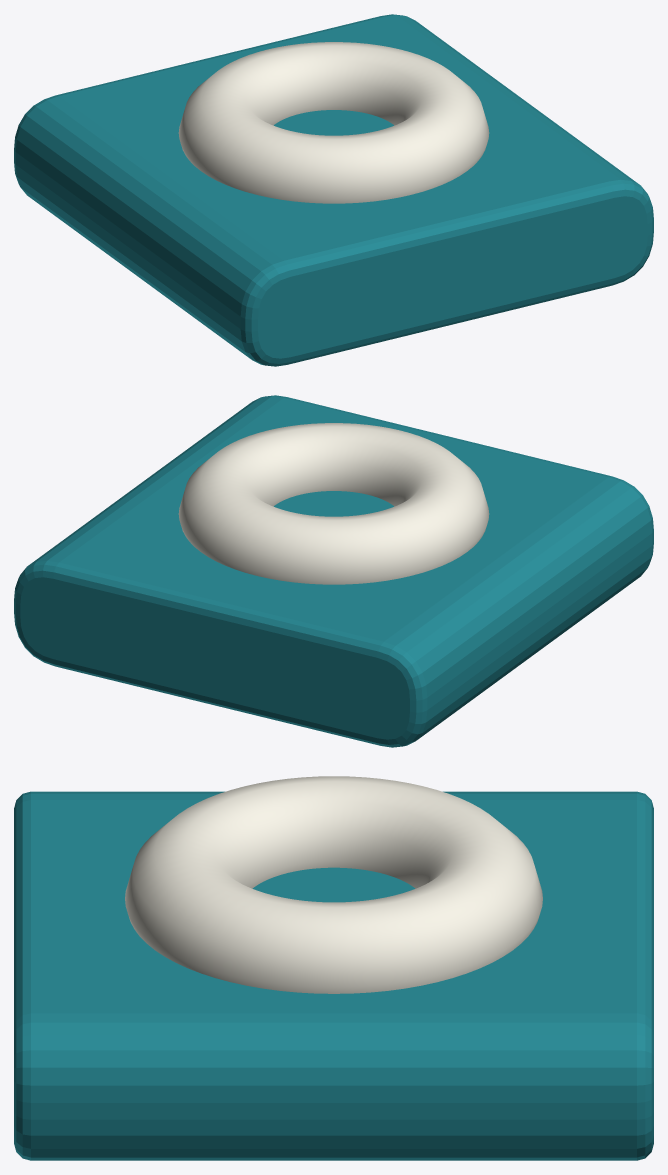
The model's file is square-prototype.glb.
3 renders of one model, top to bottom at view 1: azimuth 30°, elevation 25°; view 2: azimuth 150°, elevation 25°; view 3: azimuth 270°, elevation 25°, orthographic. The views are drawn at different scales.
Parts seen in each view (by area): view 1: square-prototype; view 2: square-prototype; view 3: square-prototype.
Part boxes in pixels (left/top/right/bottom): square-prototype: left=14, top=14, right=653, bottom=366; square-prototype: left=14, top=395, right=653, bottom=747; square-prototype: left=14, top=776, right=653, bottom=1160.
Bounding box in the file's own units: 0.15 × 0.052 × 0.15.
